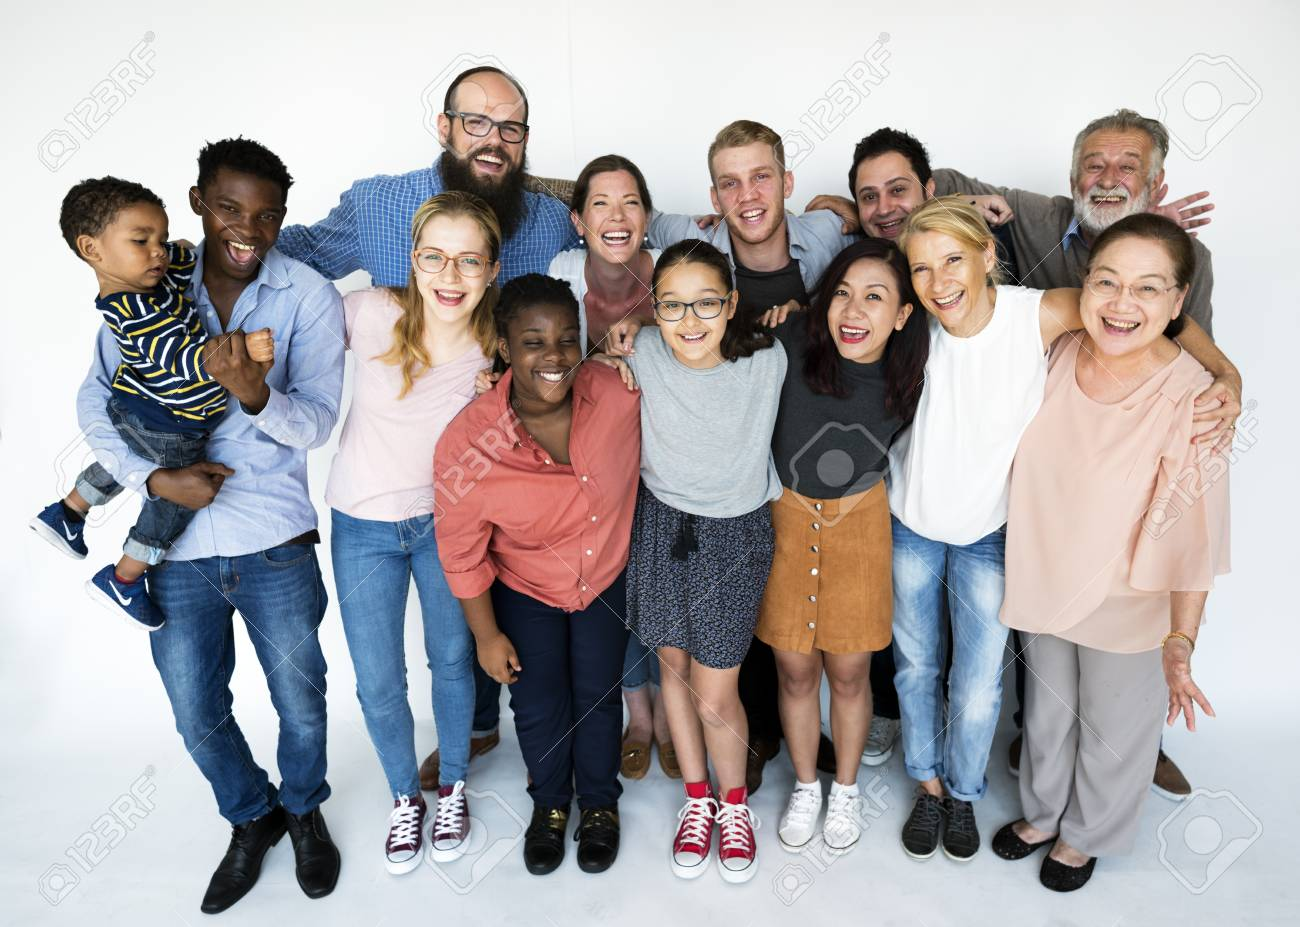person: (1028, 230, 1261, 578), (876, 209, 1085, 493), (165, 141, 332, 415), (613, 257, 798, 469), (444, 281, 631, 484), (349, 200, 510, 420), (776, 239, 932, 455), (673, 141, 844, 294)
